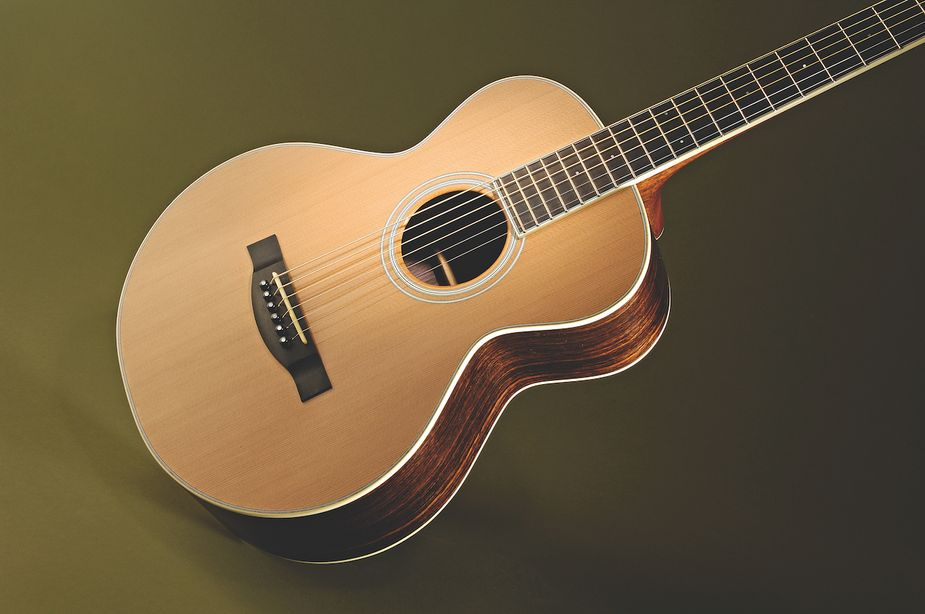guitar: (54, 0, 925, 571)
